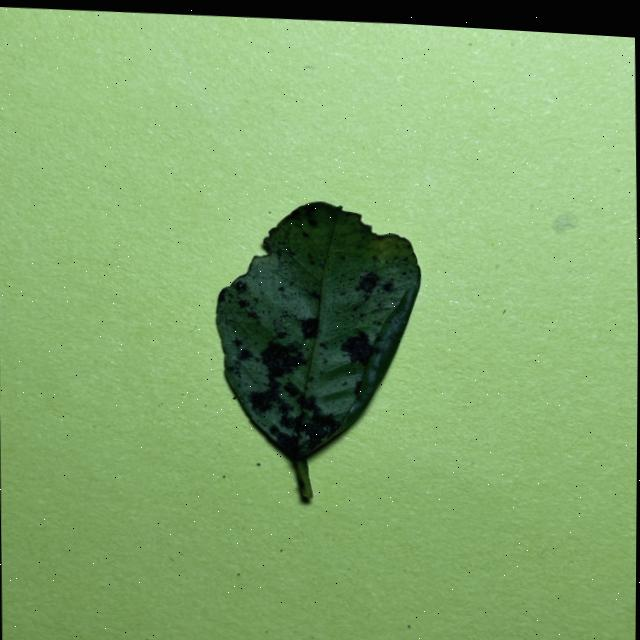sooty_mold: (216, 201, 419, 497)
